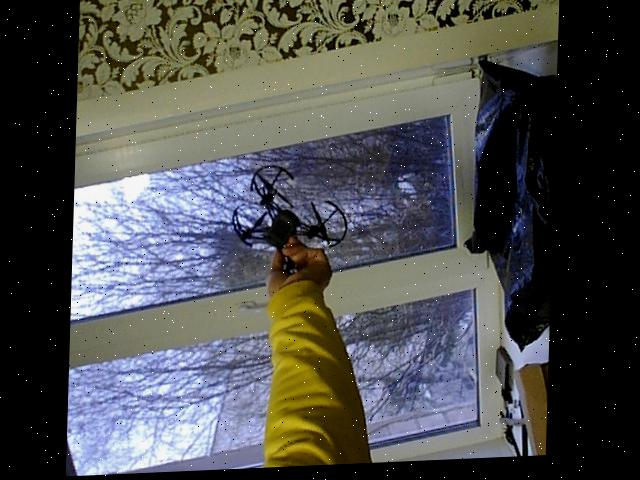drone: (231, 164, 359, 303)
